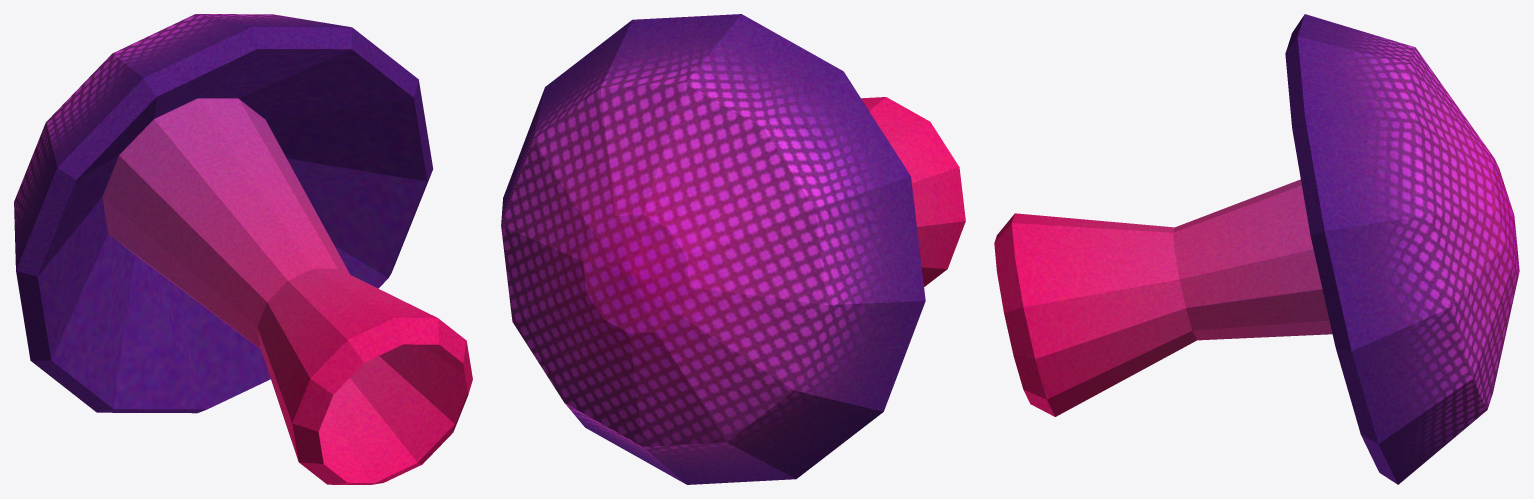
File: mushroom.fbx
3 views of the same model, side by side, from view 1: azimuth 30°, elevation 25°; view 2: azimuth 150°, elevation 25°; view 3: azimuth 270°, elevation 25° (orthographic).
Parts seen in each view (by area): view 1: mush; view 2: mush; view 3: mush.
Boxes of the visible parts, box(x1,y1,x2,y2) form: mush: box(14, 14, 472, 484); mush: box(501, 14, 965, 484); mush: box(994, 14, 1519, 484).
Size of the model in its own units: 310 by 302 by 337.
1 material, 1 textured.
